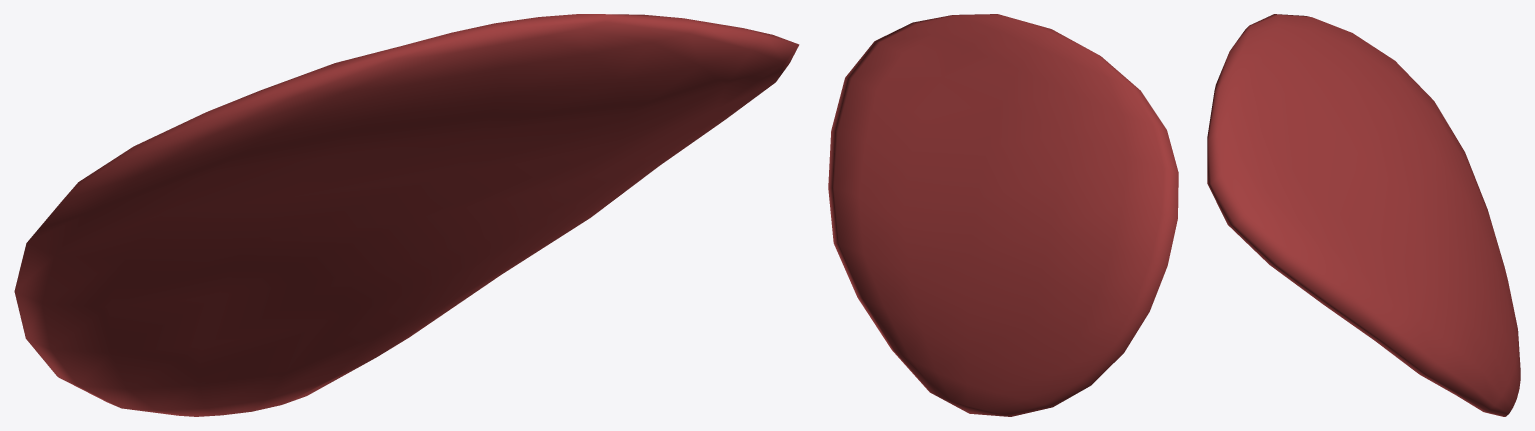
Rendered from subtendinous-bursa-of-trapezius-muscle-l.glb.
3 renders of one model, left to right at view 1: azimuth 30°, elevation 25°; view 2: azimuth 150°, elevation 25°; view 3: azimuth 270°, elevation 25°, orthographic. The views are drawn at different scales.
Parts seen in each view (by area): view 1: Subtendinous bursa of trapezius muscle.l; view 2: Subtendinous bursa of trapezius muscle.l; view 3: Subtendinous bursa of trapezius muscle.l.
Boxes of the visible parts, x1,y1,x2,y2 form: Subtendinous bursa of trapezius muscle.l: (14,14,799,416); Subtendinous bursa of trapezius muscle.l: (828,14,1178,416); Subtendinous bursa of trapezius muscle.l: (1207,14,1520,416).
Size of the model in its own units: 0.0373 by 0.0275 by 0.0212.
